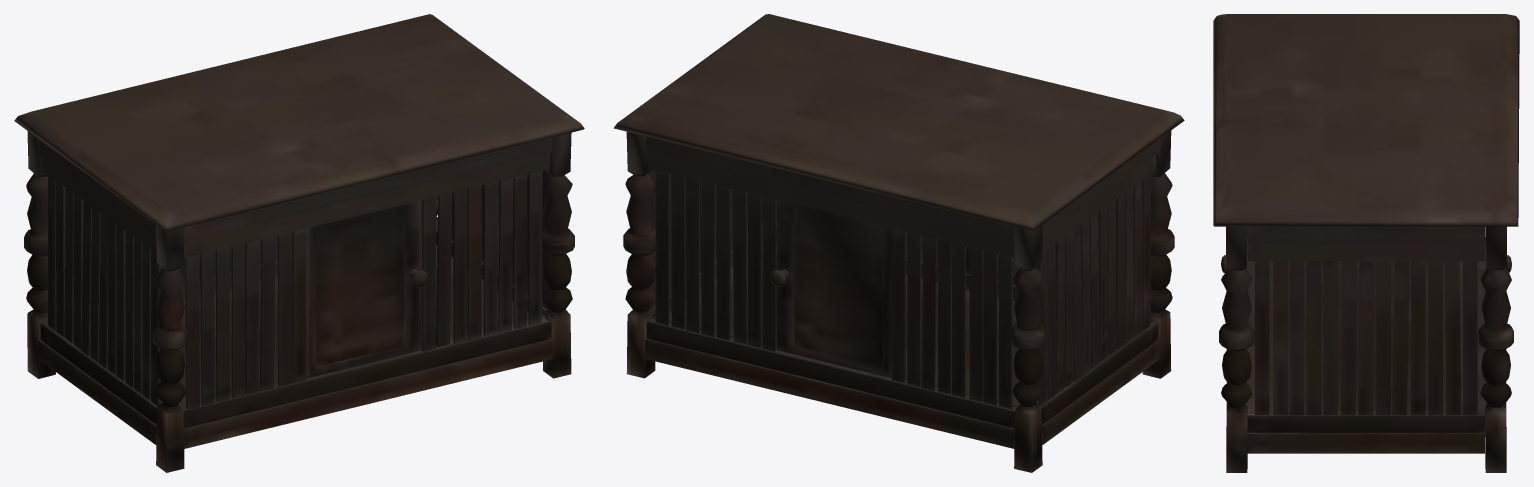
The model's file is side_table.glb.
3 renders of one model, left to right at view 1: azimuth 30°, elevation 25°; view 2: azimuth 150°, elevation 25°; view 3: azimuth 270°, elevation 25°, orthographic.
Parts seen in each view (by area): view 1: gallinera_table, gallinera_table_door_a; view 2: gallinera_table, gallinera_table_door_b; view 3: gallinera_table.
Part boxes in pixels (x1,y1,x2,y2): gallinera_table: [14, 14, 584, 472]; gallinera_table_door_a: [306, 200, 427, 378]; gallinera_table: [613, 14, 1184, 472]; gallinera_table_door_b: [770, 200, 891, 378]; gallinera_table: [1213, 14, 1519, 472].
Size of the model in its own units: 0.8266 by 0.4872 by 0.5174.
Materials: 1 (1 with a texture image).
